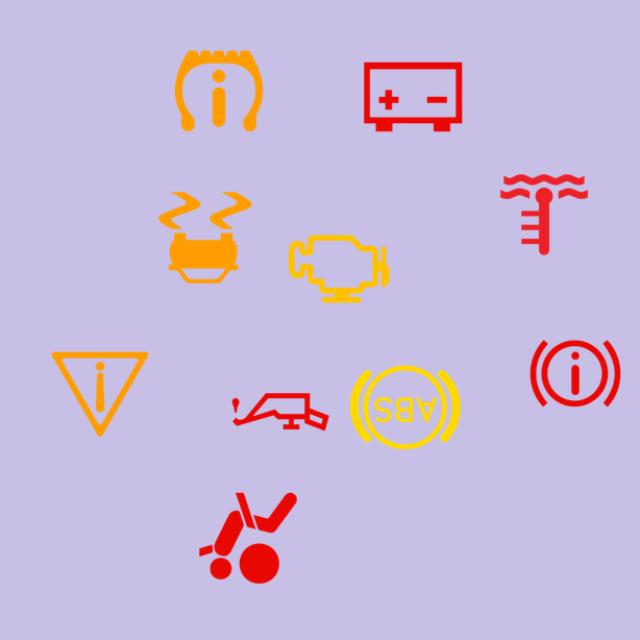Anti Lock Braking System: (345, 347, 466, 468)
Braking System Issue: (515, 312, 636, 433)
Charging System Issue: (352, 36, 473, 158)
Check Engine: (278, 208, 399, 329)
Electronic Stability Problem -ESP-: (145, 177, 266, 298)
Engine Overheating Warning Light: (484, 154, 604, 275)
Low Engine Oil Warning Light: (220, 351, 341, 472)
Low Tire Pressure Warning Light: (158, 30, 280, 151)
Master warning light: (40, 334, 160, 454)
SRS-Airbag: (188, 478, 308, 598)
